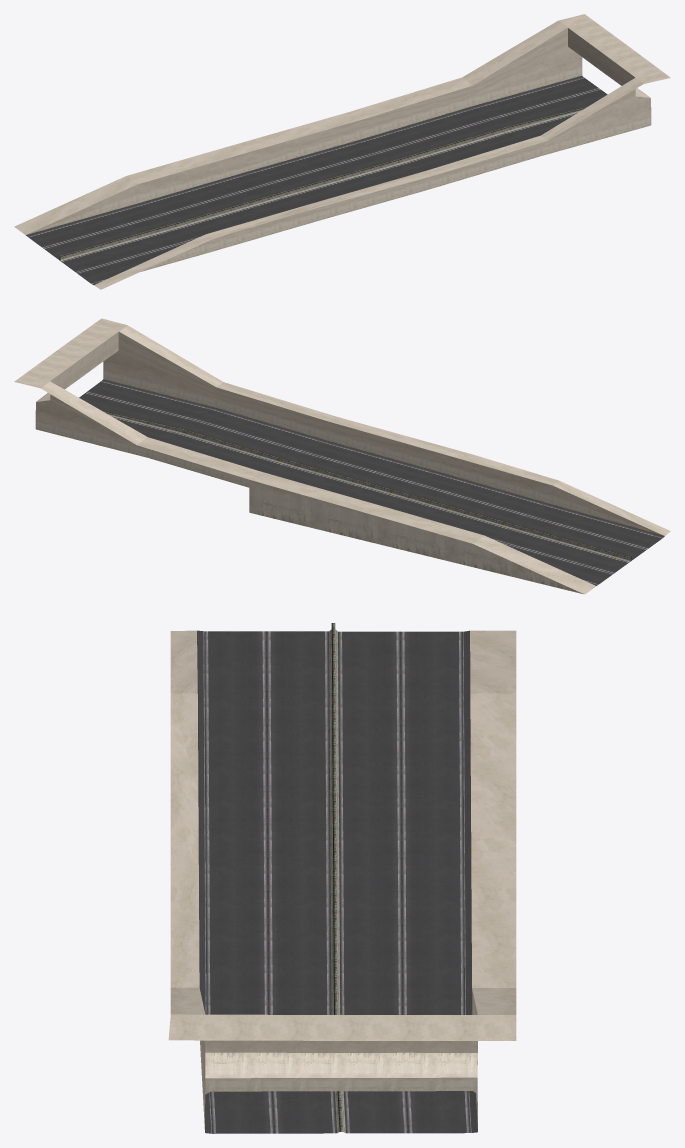
Rendered from roadssfse29.obj.
The picture shows the model from 3 angles, top to bottom: view 1: azimuth 30°, elevation 25°; view 2: azimuth 150°, elevation 25°; view 3: azimuth 270°, elevation 25°; orthographic projection. The views are drawn at different scales.
Parts seen in each view (by area): view 1: roadsSFSE29; view 2: roadsSFSE29; view 3: roadsSFSE29.
Part boxes in pixels (x1=…): roadsSFSE29: x1=14, y1=14, x2=670, y2=289; roadsSFSE29: x1=14, y1=318, x2=670, y2=594; roadsSFSE29: x1=168, y1=623, x2=516, y2=1133.
Size of the model in its own units: 127 by 15.67 by 33.48.
Materials: 4 (4 with a texture image).
